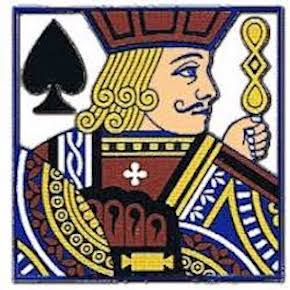JackOfSpades: (9, 3, 290, 287)
